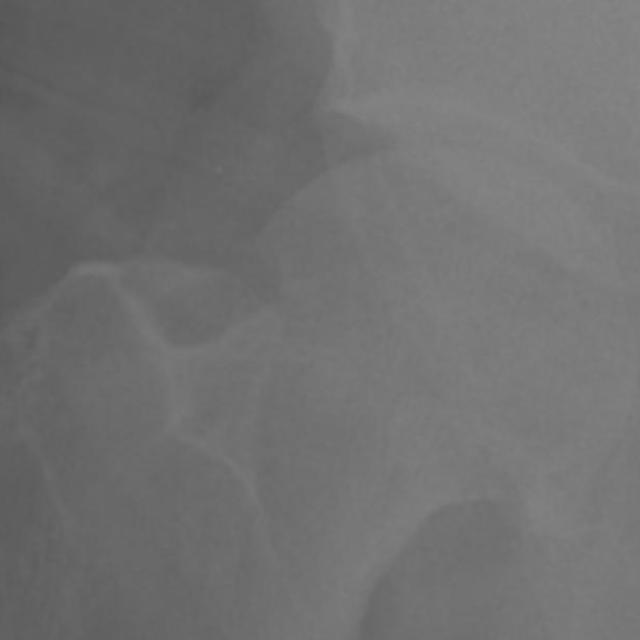Fitted_femural_head: (408, 145, 432, 408)
